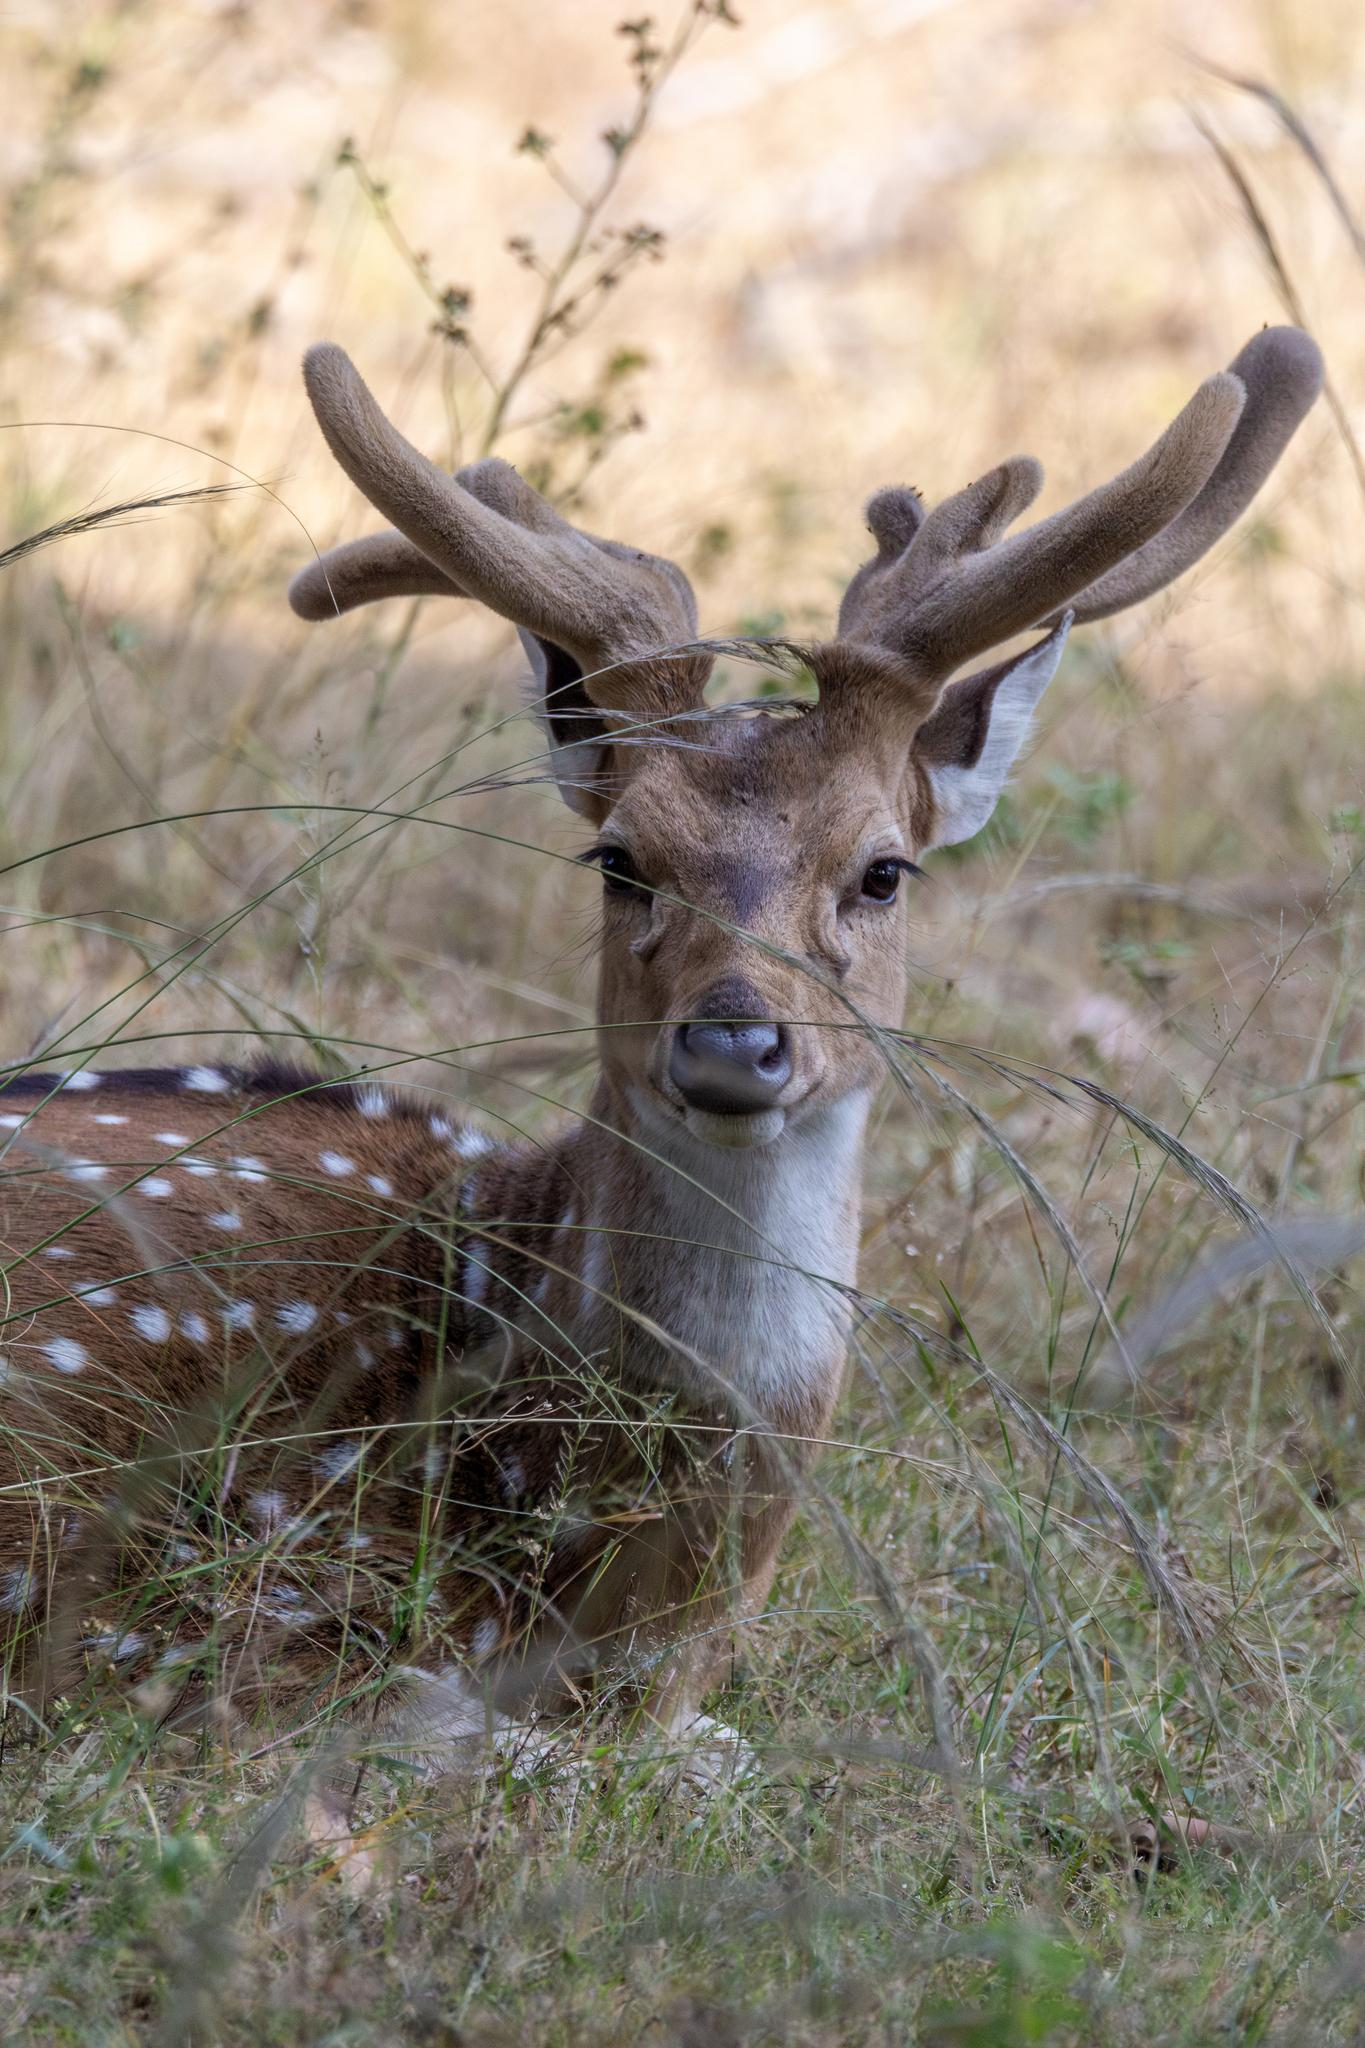Deer: (0, 327, 1322, 1692)
